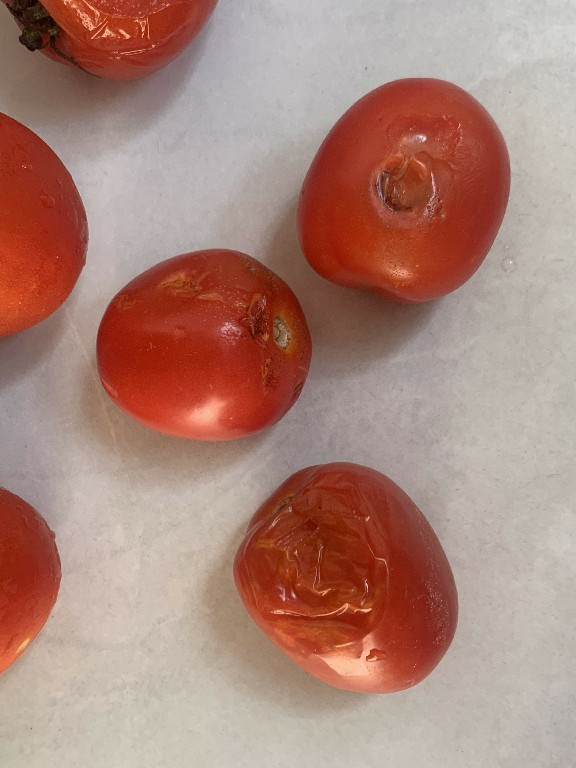NG: (219, 450, 469, 701), (291, 66, 517, 308), (89, 237, 326, 447)
